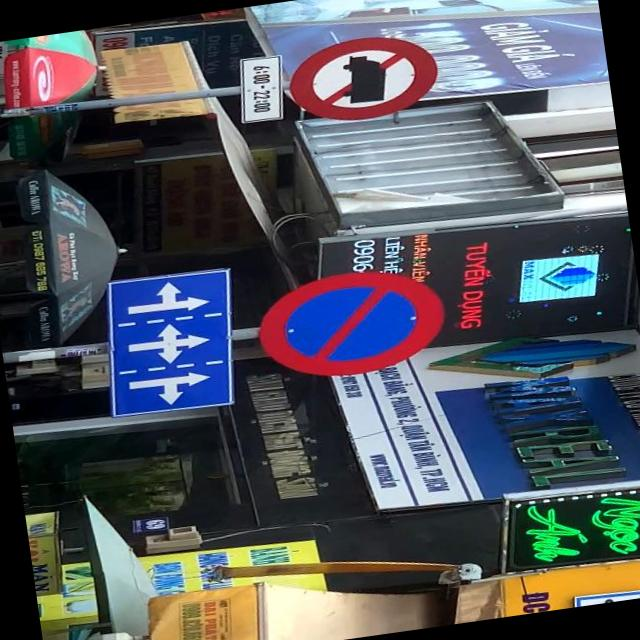P-131a: (254, 262, 451, 386)
